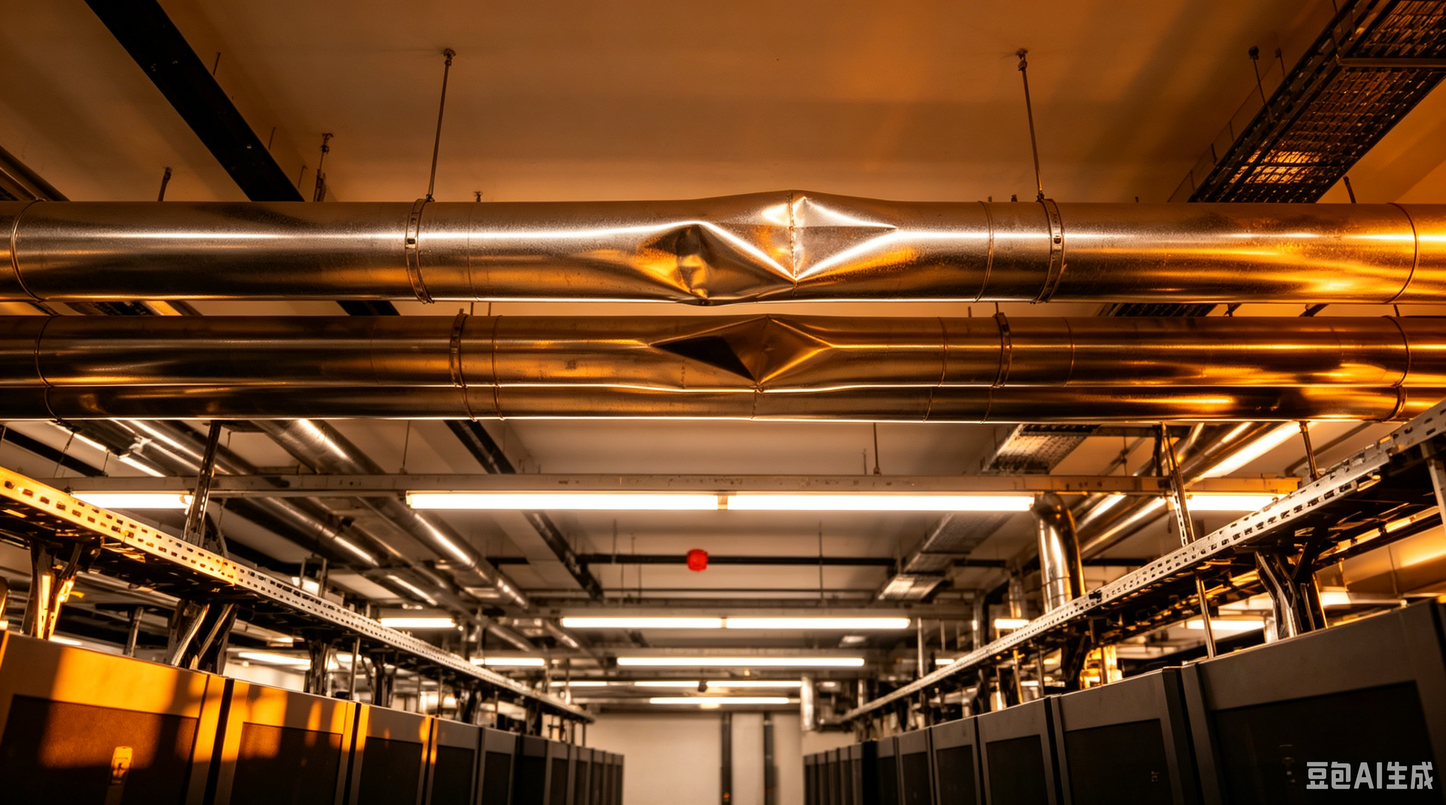Leakage: (716, 197, 939, 277), (640, 311, 846, 397), (625, 222, 755, 299)
